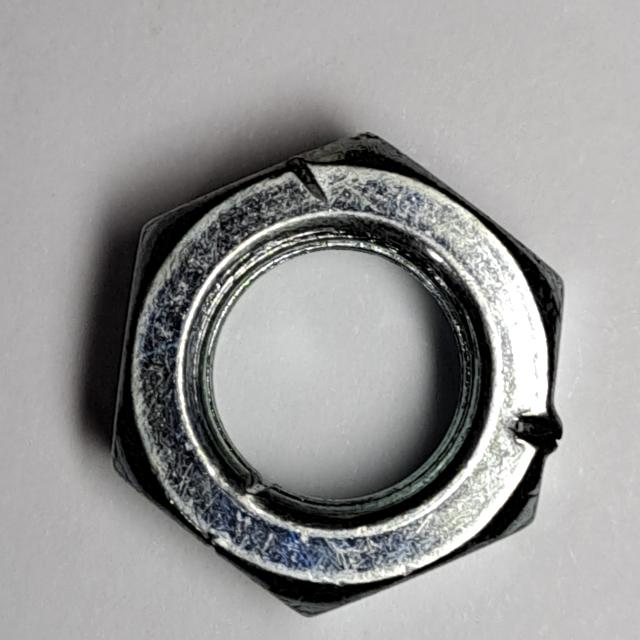Scratches: (100, 119, 578, 637)
